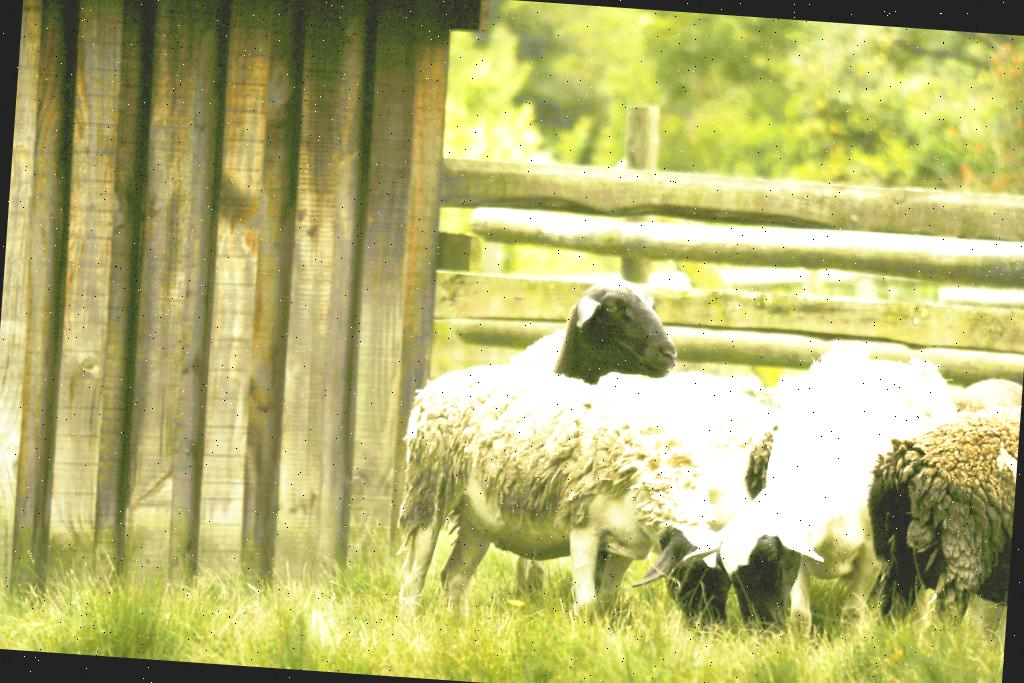Sheep: (386, 358, 730, 648), (720, 336, 952, 646), (854, 400, 1020, 654), (612, 363, 792, 510), (955, 354, 1024, 406)
